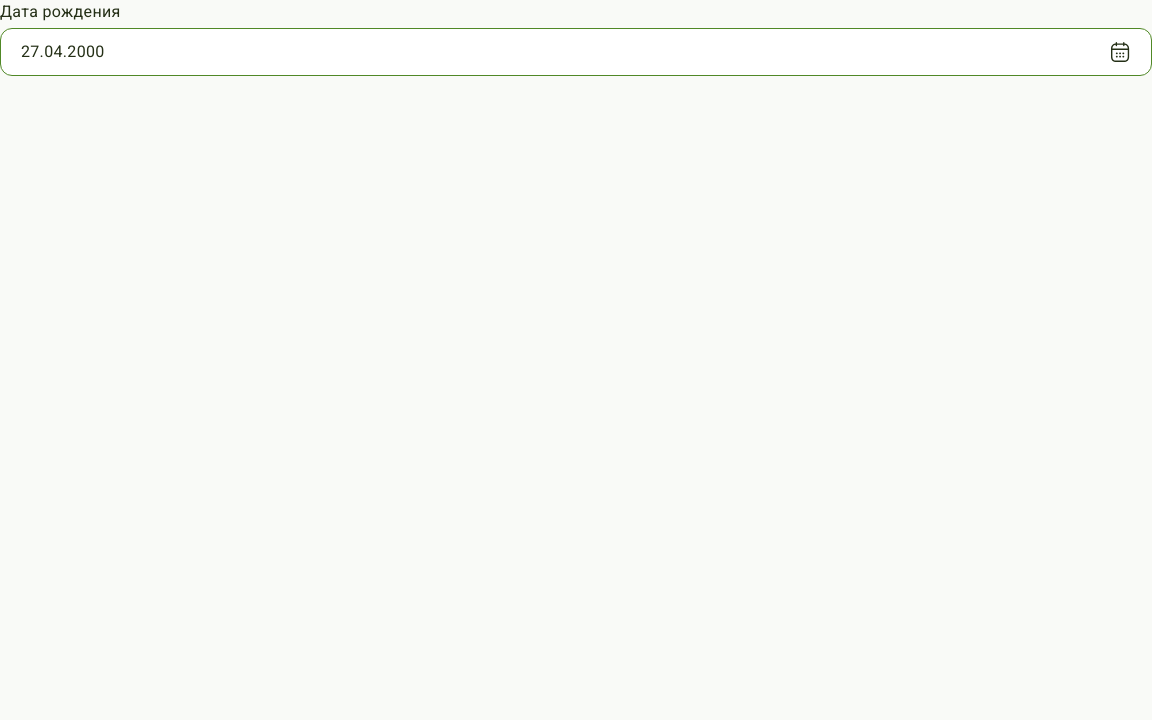
Test case: DatePicker › показывает русскую неделю с понедельника и позволяет выбрать месяц и год
Later steps or results of the test are not shown.
What coordinates should you click on to do the following:
click the button named "Открыть календарь"
I would click on:
 (1120, 52)
Its box is [1108,40,1132,64].
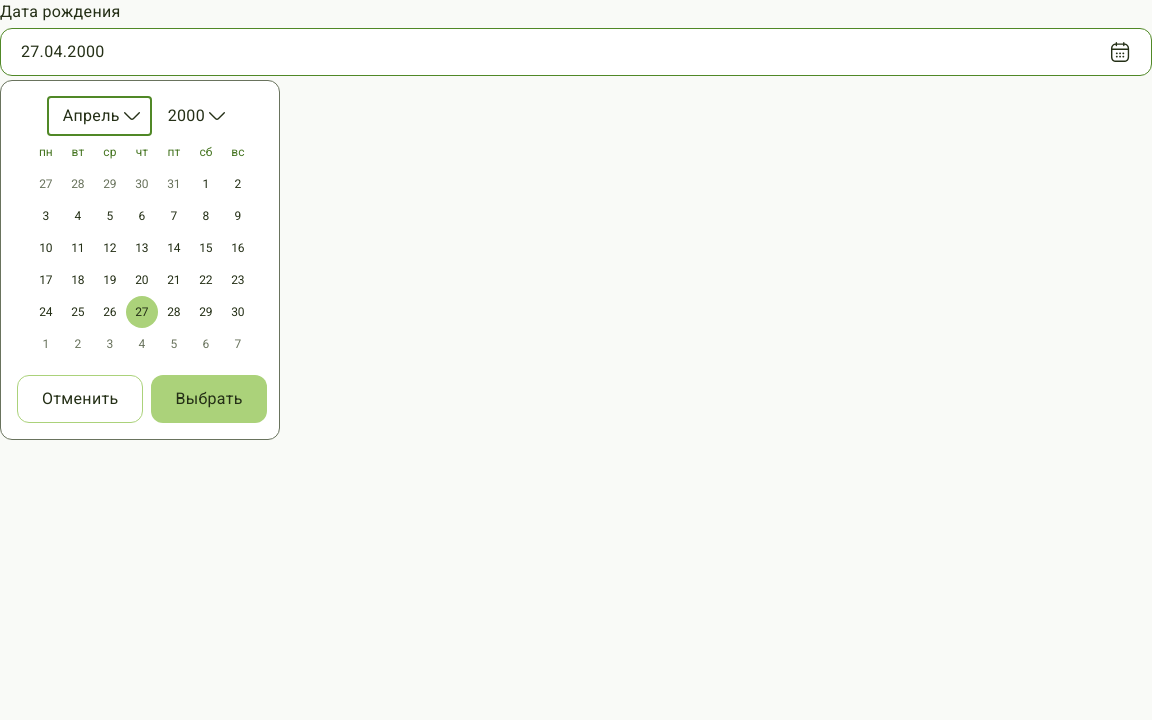
Expected: the column heading "пн" is shown, [38,144,114,159]
